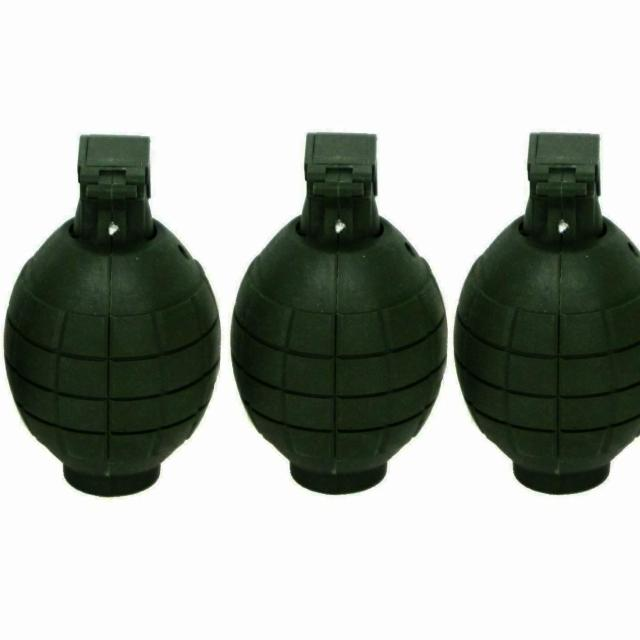grenade: (5, 136, 222, 497), (234, 134, 449, 495), (455, 136, 640, 495)
